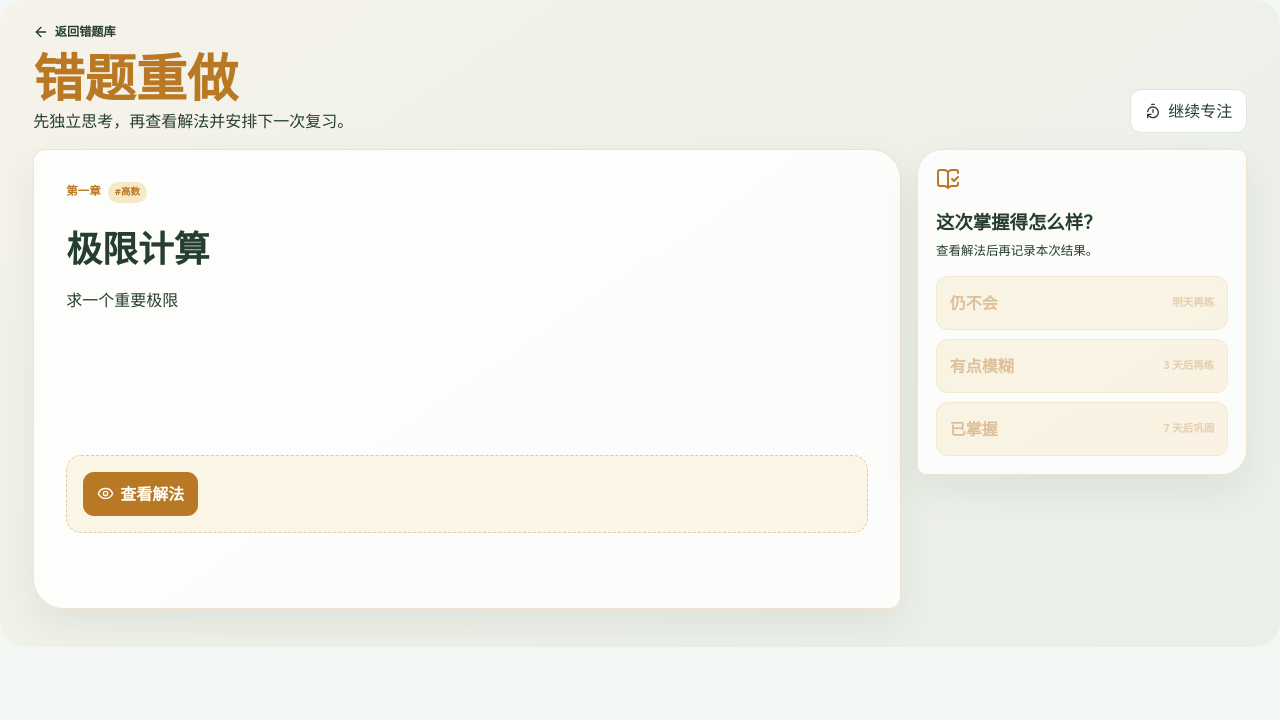
Test: math wrong-question review › keeps the solution hidden until the learner asks for it
Expected: the heading "极限计算" is shown, x1=66 y1=224 x2=210 y2=273
Expected: the text "求一个重要极限" is shown, x1=66 y1=289 x2=178 y2=311
Click the button "查看解法": x=141, y=494 x1=83 y1=472 x2=198 y2=516
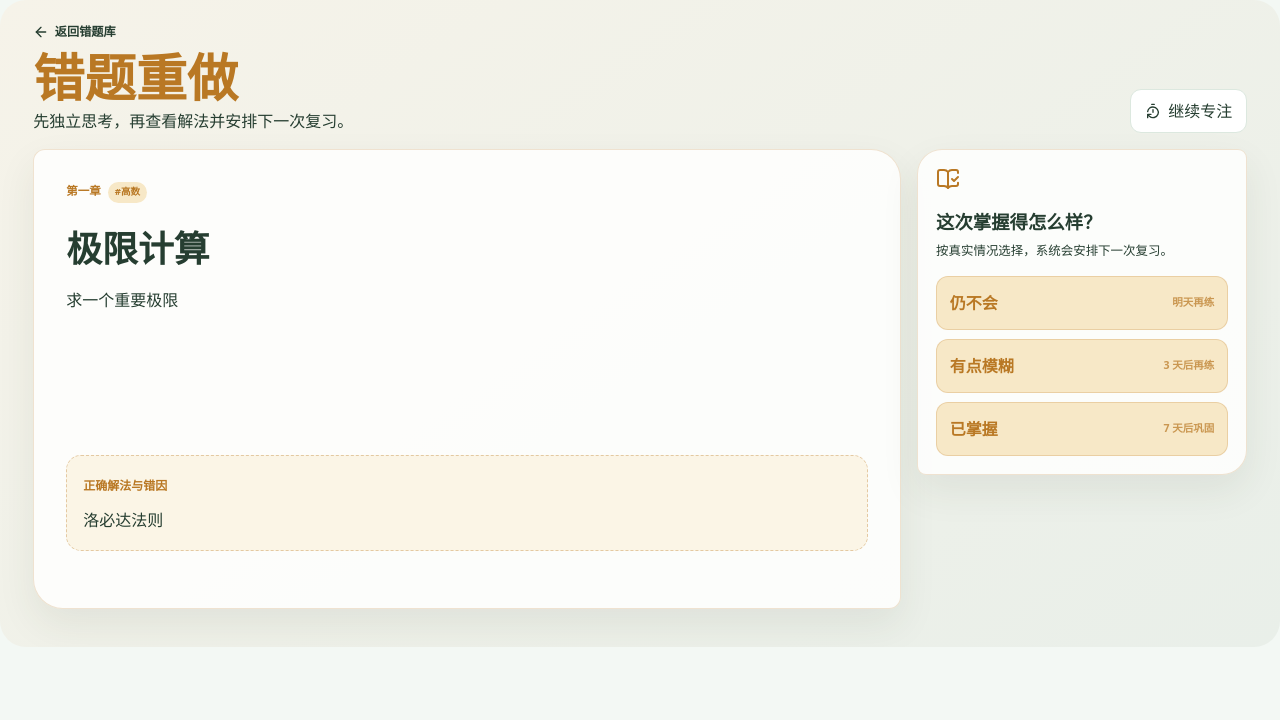
Expected: the text "洛必达法则" is shown, x1=83 y1=508 x2=163 y2=530
Expected: the button "仍不会 明天再练" is enabled, x1=936 y1=276 x2=1228 y2=330
